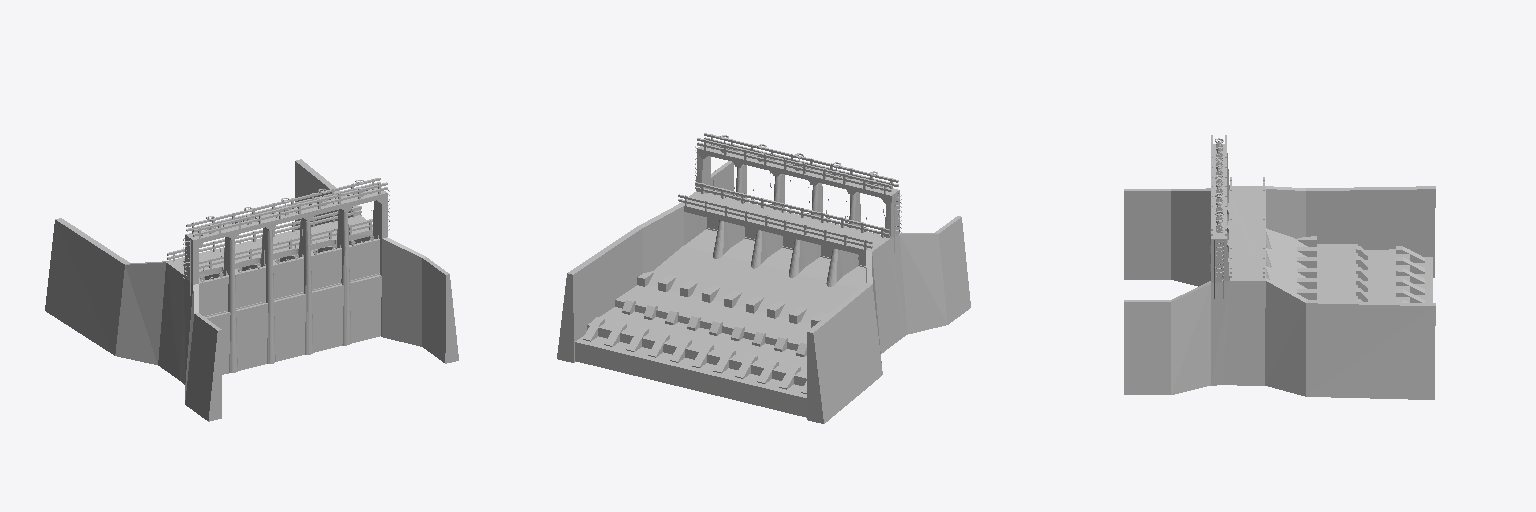
File: uploads_files_2255303_Dam.obj
The picture shows the model from 3 angles: view 1: azimuth 30°, elevation 25°; view 2: azimuth 150°, elevation 25°; view 3: azimuth 270°, elevation 25°; orthographic projection.
Parts seen in each view (by area): view 1: Side_Pillar_Base_Cylinder.002, Bottom_Base_Cube.010, Dam_Door_Torus, Pillar_Base_Cylinder.001, Walls_Cube.001; view 2: Side_Pillar_Base_Cylinder.002, Bottom_Base_Cube.010, Bottom_Rocks_Cube.014, Walls_Cube.001, Pillar_Base_Cylinder.001, Dam_Door_Torus; view 3: Side_Pillar_Base_Cylinder.002, Bottom_Base_Cube.010, Bottom_Rocks_Cube.014, Walls_Cube.001, Engine_On_Top_Cylinder.019.
Part boxes in pixels (x1,y1,x2,y2): Side_Pillar_Base_Cylinder.002: (45,159,458,421); Bottom_Base_Cube.010: (169,230,381,374); Dam_Door_Torus: (199,193,379,315); Pillar_Base_Cylinder.001: (204,209,350,372); Walls_Cube.001: (167,178,387,268); Side_Pillar_Base_Cylinder.002: (557,143,970,423); Bottom_Base_Cube.010: (575,228,865,417); Bottom_Rocks_Cube.014: (583,271,827,393); Walls_Cube.001: (678,133,898,249); Pillar_Base_Cylinder.001: (713,165,860,286); Dam_Door_Torus: (707,170,884,265); Side_Pillar_Base_Cylinder.002: (1124,144,1435,399); Bottom_Base_Cube.010: (1266,228,1432,302); Bottom_Rocks_Cube.014: (1297,236,1424,302); Walls_Cube.001: (1211,135,1264,277); Engine_On_Top_Cylinder.019: (1215,138,1223,232).
Bounding box in the file's own units: 93.63 × 52.88 × 94.41.